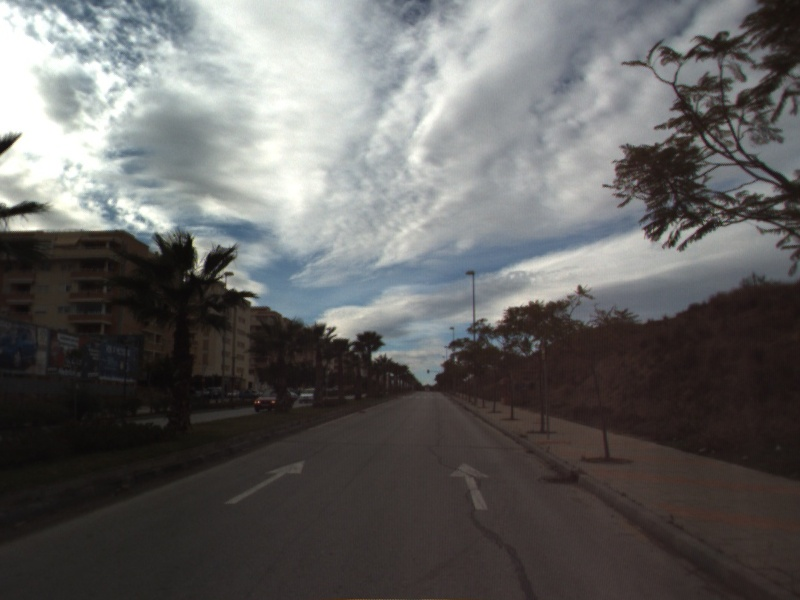STRAIGHT: (223, 458, 308, 506), (447, 460, 492, 512)
